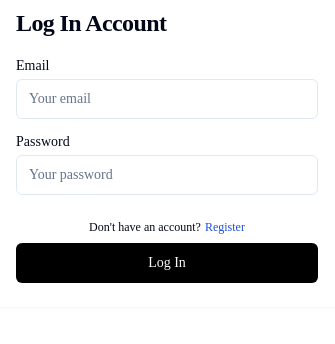
it: LoginCard › display error messages; invalid input
The image size is (335, 344).
Click the button "Log In": (167, 263) [16, 243, 318, 283]
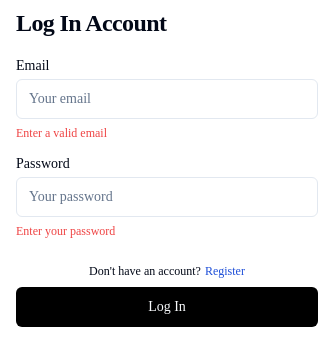
Expected: the text "Enter a valid email" is shown, [16, 126, 107, 140]
Expected: the text "Enter your password" is shown, [16, 224, 115, 238]
